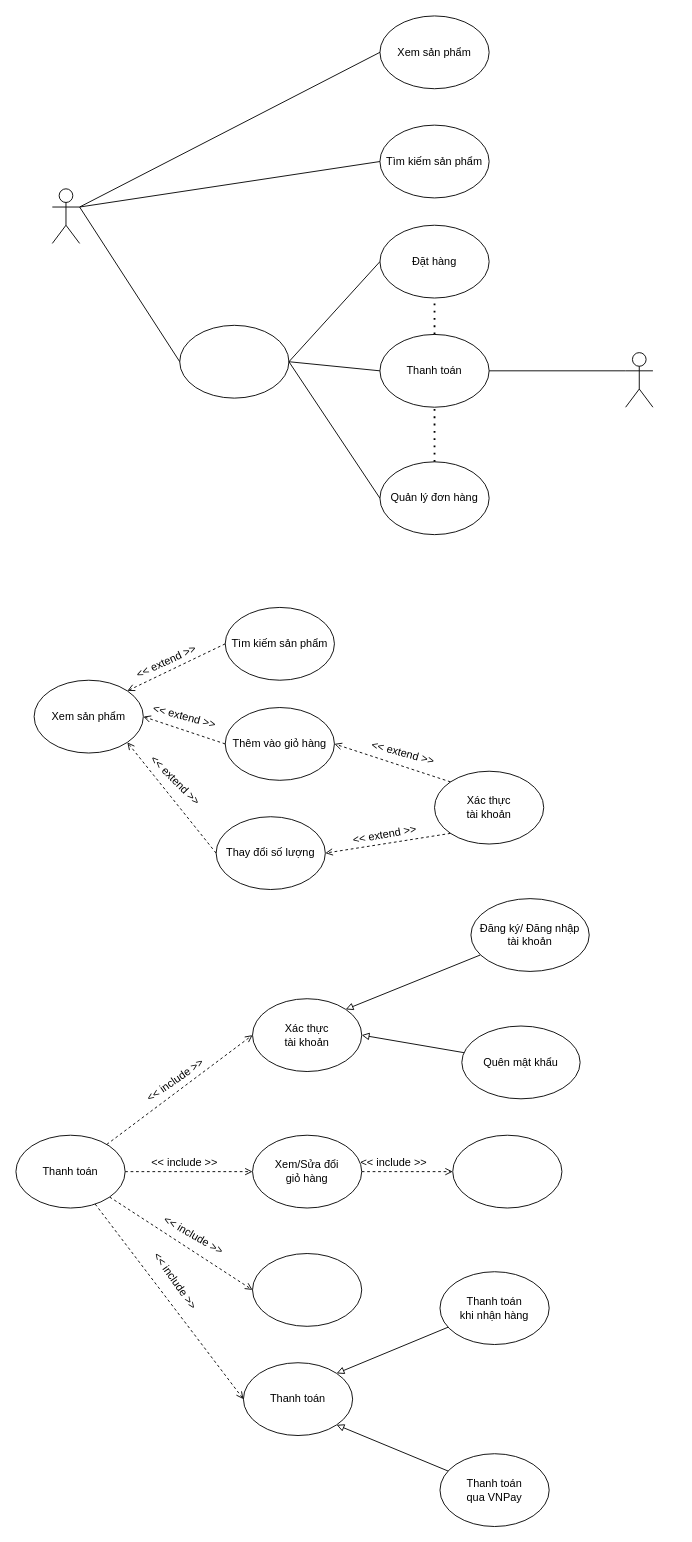
Some shapes in this 692 by 1542 pixel diagram are drawn without their labels. The shapes that lost their labels are listed below. From the top down, each one's centre as x and y in pixels, then its label:
At point (65, 215): "Khách hàng".
At point (234, 361): "Đăng ký/ Đăng nhập".
At point (639, 379): "Dịch vụ VNPay".
At point (507, 1171): "Thành tiền đơn hàng".
At point (307, 1289): "Tính tiền ship".
